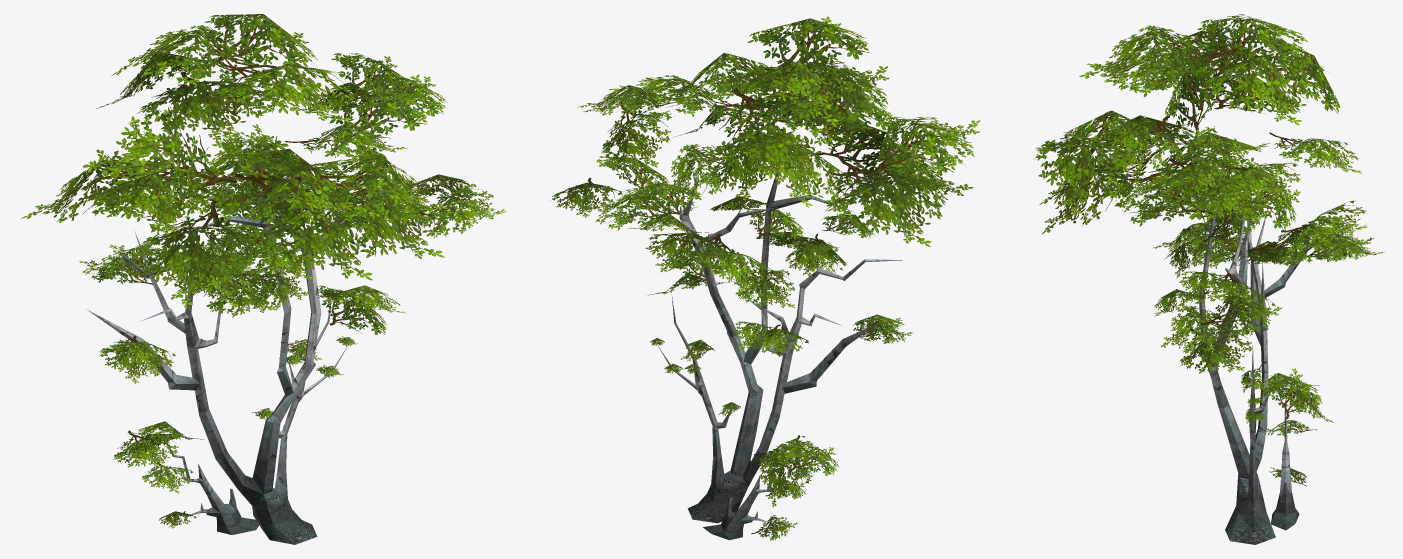
Rendered from wd_zhiwu_02.FBX.
3 views of the same model, side by side, from view 1: azimuth 30°, elevation 25°; view 2: azimuth 150°, elevation 25°; view 3: azimuth 270°, elevation 25° (orthographic). The views are drawn at different scales.
Parts seen in each view (by area): view 1: wd_zhiwu_02; view 2: wd_zhiwu_02; view 3: wd_zhiwu_02.
Boxes of the visible parts, left/top/right/bottom form: wd_zhiwu_02: left=21, top=14, right=506, bottom=544; wd_zhiwu_02: left=552, top=16, right=980, bottom=540; wd_zhiwu_02: left=1034, top=14, right=1384, bottom=544.
Size of the model in its own units: 1467 by 1641 by 1167.
